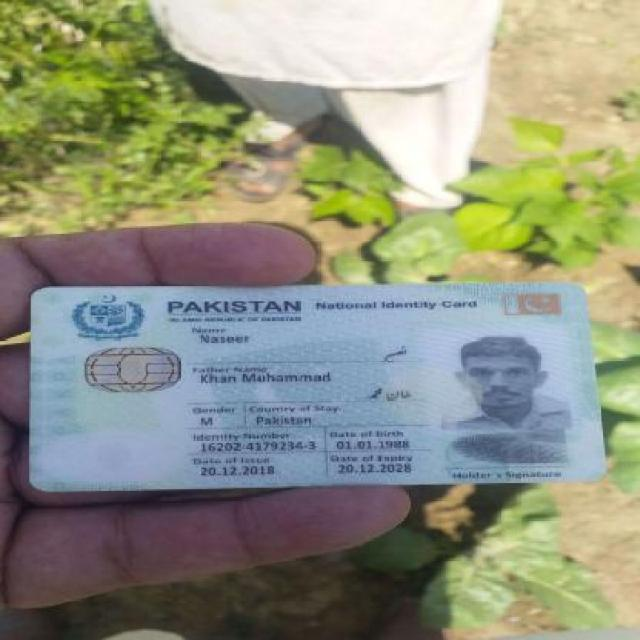Front: (20, 274, 614, 494)
